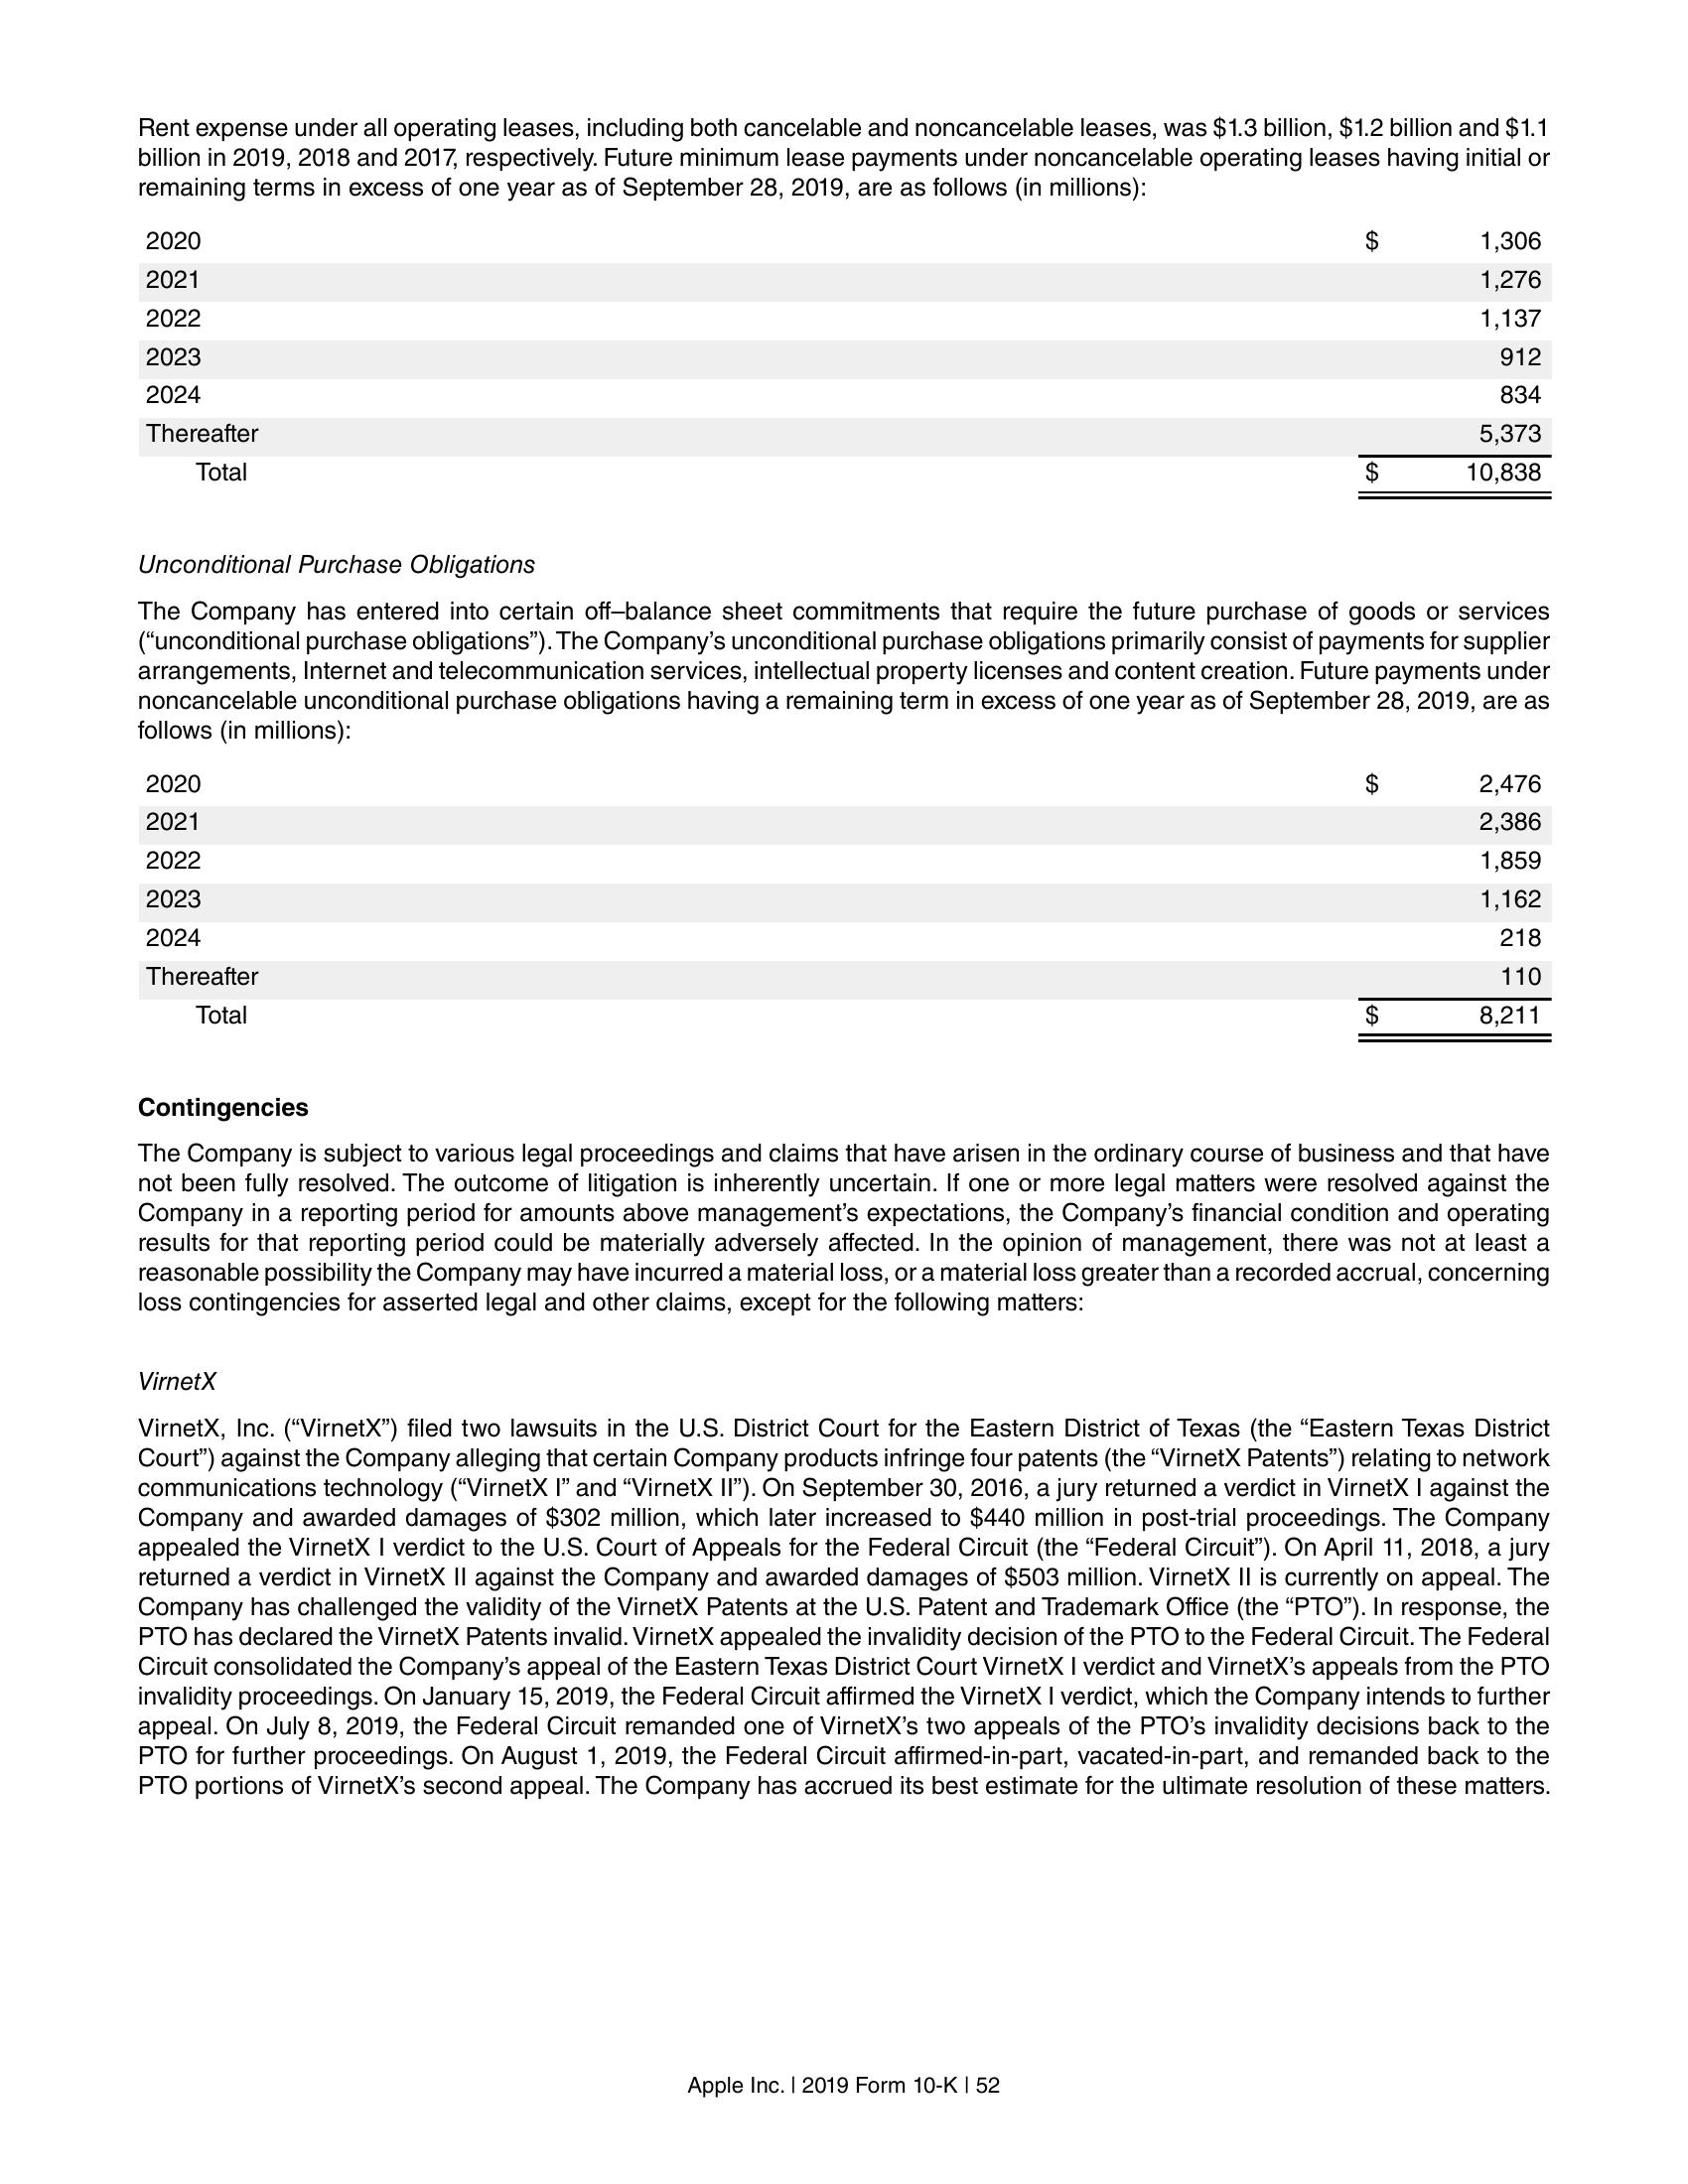table: (138, 220, 1560, 511), (137, 771, 1564, 1049)
